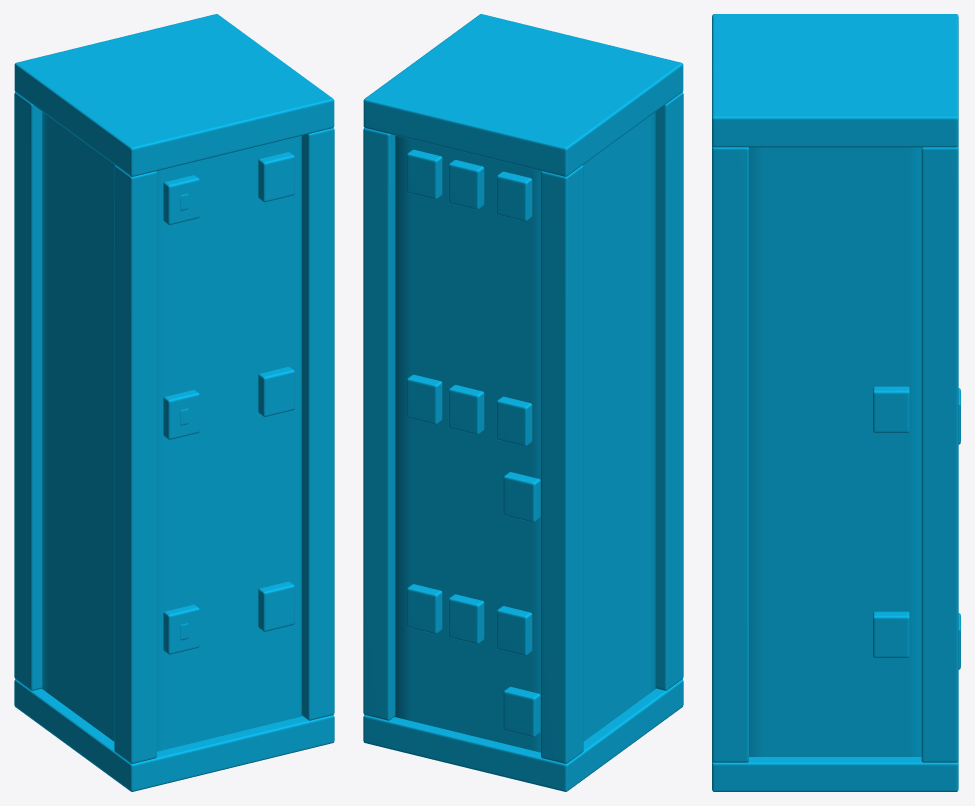
Rendered from SM_Clay_Body_04.fbx.
3 views of the same model, side by side, from view 1: azimuth 30°, elevation 25°; view 2: azimuth 150°, elevation 25°; view 3: azimuth 270°, elevation 25° (orthographic). The views are drawn at different scales.
Parts seen in each view (by area): view 1: SM_Clay_Body_04; view 2: SM_Clay_Body_04; view 3: SM_Clay_Body_04.
Boxes of the visible parts, bbox=[...] form: SM_Clay_Body_04: bbox=[14, 14, 334, 791]; SM_Clay_Body_04: bbox=[363, 14, 683, 791]; SM_Clay_Body_04: bbox=[712, 14, 960, 791].
Bounding box in the file's own units: 2.48 × 7.5 × 2.5.
